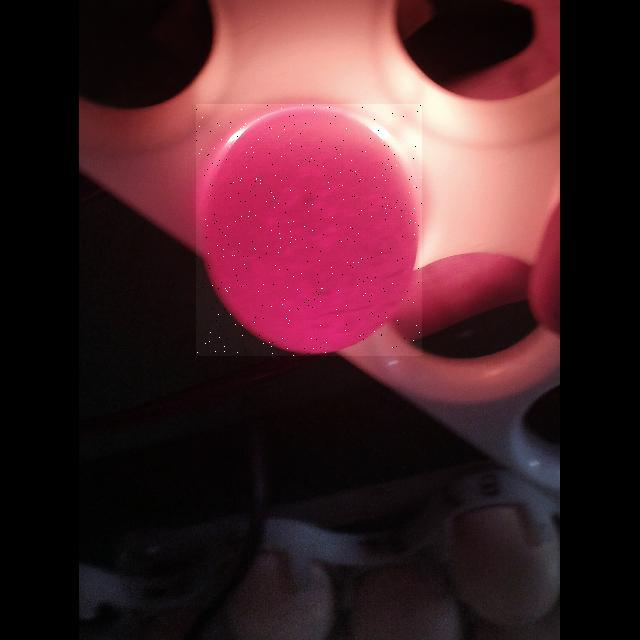Infertile: (196, 104, 422, 356)
